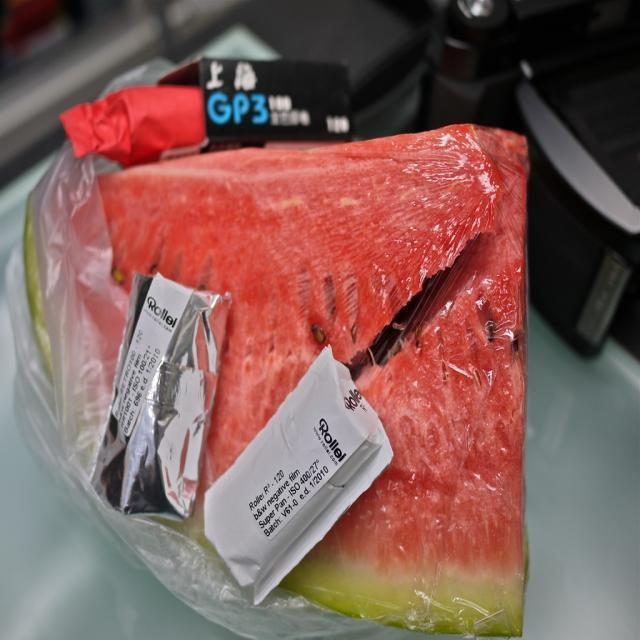Watermelon: (22, 122, 530, 638)
